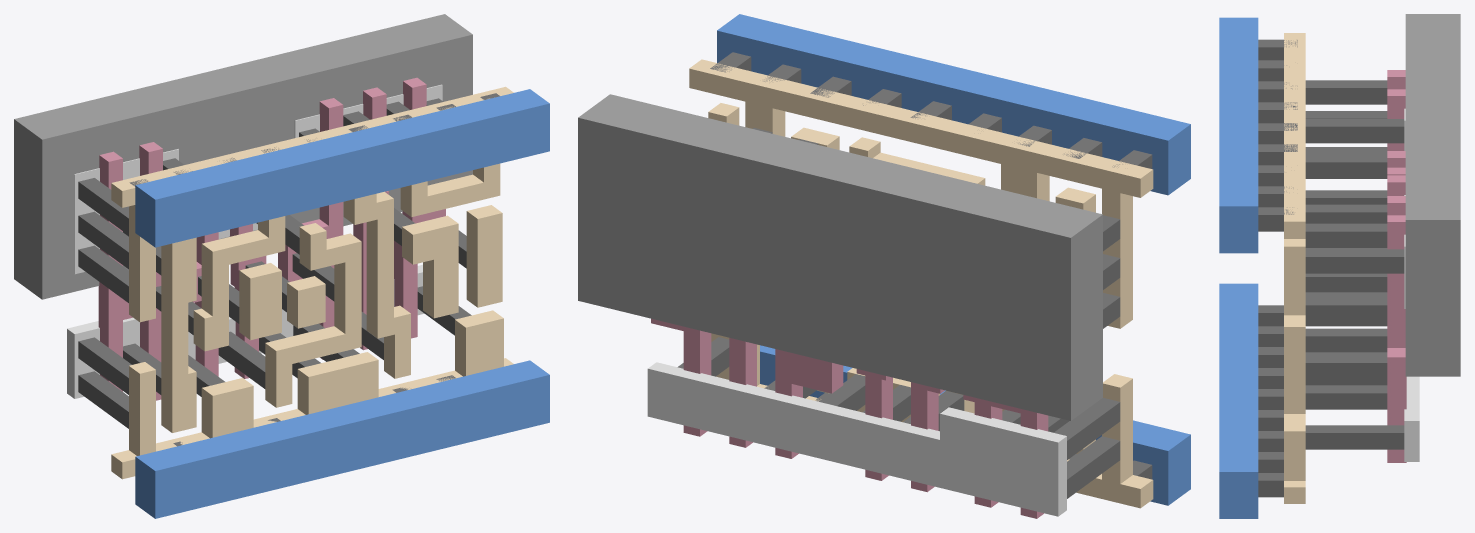
The model's file is sky130_fd_sc_hd__a2bb2o_2.gds.gltf.
The picture shows the model from 3 angles, left to right: view 1: azimuth 30°, elevation 25°; view 2: azimuth 150°, elevation 25°; view 3: azimuth 270°, elevation 25°; orthographic projection. The views are drawn at different scales.
Visible parts, largest first — view 1: sky130_fd_sc_hd__a2bb2o_2_li1, sky130_fd_sc_hd__a2bb2o_2_met1, sky130_fd_sc_hd__a2bb2o_2_nwell, sky130_fd_sc_hd__a2bb2o_2_licon, sky130_fd_sc_hd__a2bb2o_2_poly, sky130_fd_sc_hd__a2bb2o_2_diff, sky130_fd_sc_hd__a2bb2o_2_mcon; view 2: sky130_fd_sc_hd__a2bb2o_2_nwell, sky130_fd_sc_hd__a2bb2o_2_li1, sky130_fd_sc_hd__a2bb2o_2_met1, sky130_fd_sc_hd__a2bb2o_2_diff, sky130_fd_sc_hd__a2bb2o_2_poly, sky130_fd_sc_hd__a2bb2o_2_licon, sky130_fd_sc_hd__a2bb2o_2_mcon; view 3: sky130_fd_sc_hd__a2bb2o_2_licon, sky130_fd_sc_hd__a2bb2o_2_nwell, sky130_fd_sc_hd__a2bb2o_2_met1, sky130_fd_sc_hd__a2bb2o_2_mcon, sky130_fd_sc_hd__a2bb2o_2_li1, sky130_fd_sc_hd__a2bb2o_2_poly, sky130_fd_sc_hd__a2bb2o_2_diff.
Part boxes in pixels (<box>): sky130_fd_sc_hd__a2bb2o_2_li1: <box>111,86,513,479</box>; sky130_fd_sc_hd__a2bb2o_2_met1: <box>135,89,549,518</box>; sky130_fd_sc_hd__a2bb2o_2_nwell: <box>14,14,472,299</box>; sky130_fd_sc_hd__a2bb2o_2_licon: <box>78,98,471,428</box>; sky130_fd_sc_hd__a2bb2o_2_poly: <box>98,77,445,400</box>; sky130_fd_sc_hd__a2bb2o_2_diff: <box>67,84,442,398</box>; sky130_fd_sc_hd__a2bb2o_2_mcon: <box>129,93,499,446</box>; sky130_fd_sc_hd__a2bb2o_2_nwell: <box>578,94,1102,420</box>; sky130_fd_sc_hd__a2bb2o_2_li1: <box>689,59,1153,508</box>; sky130_fd_sc_hd__a2bb2o_2_met1: <box>717,14,1190,505</box>; sky130_fd_sc_hd__a2bb2o_2_diff: <box>647,362,1066,516</box>; sky130_fd_sc_hd__a2bb2o_2_poly: <box>651,318,1048,518</box>; sky130_fd_sc_hd__a2bb2o_2_licon: <box>677,128,1120,498</box>; sky130_fd_sc_hd__a2bb2o_2_mcon: <box>710,52,1152,479</box>; sky130_fd_sc_hd__a2bb2o_2_licon: <box>1305,80,1404,449</box>; sky130_fd_sc_hd__a2bb2o_2_nwell: <box>1405,14,1460,376</box>; sky130_fd_sc_hd__a2bb2o_2_met1: <box>1219,17,1258,518</box>; sky130_fd_sc_hd__a2bb2o_2_mcon: <box>1258,39,1297,497</box>; sky130_fd_sc_hd__a2bb2o_2_li1: <box>1284,33,1305,503</box>; sky130_fd_sc_hd__a2bb2o_2_poly: <box>1387,70,1406,462</box>; sky130_fd_sc_hd__a2bb2o_2_diff: <box>1404,108,1419,461</box>.
Bounding box in the file's own units: 4.52 × 3.2 × 2.24.
